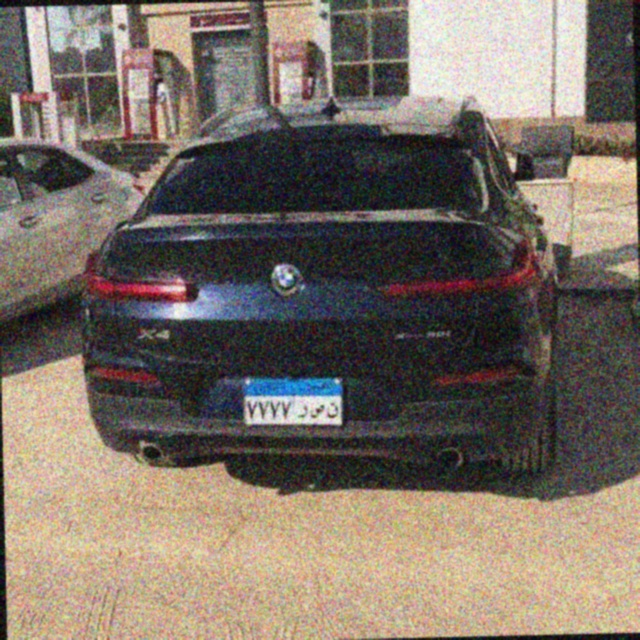License Plate: (234, 371, 353, 431)
